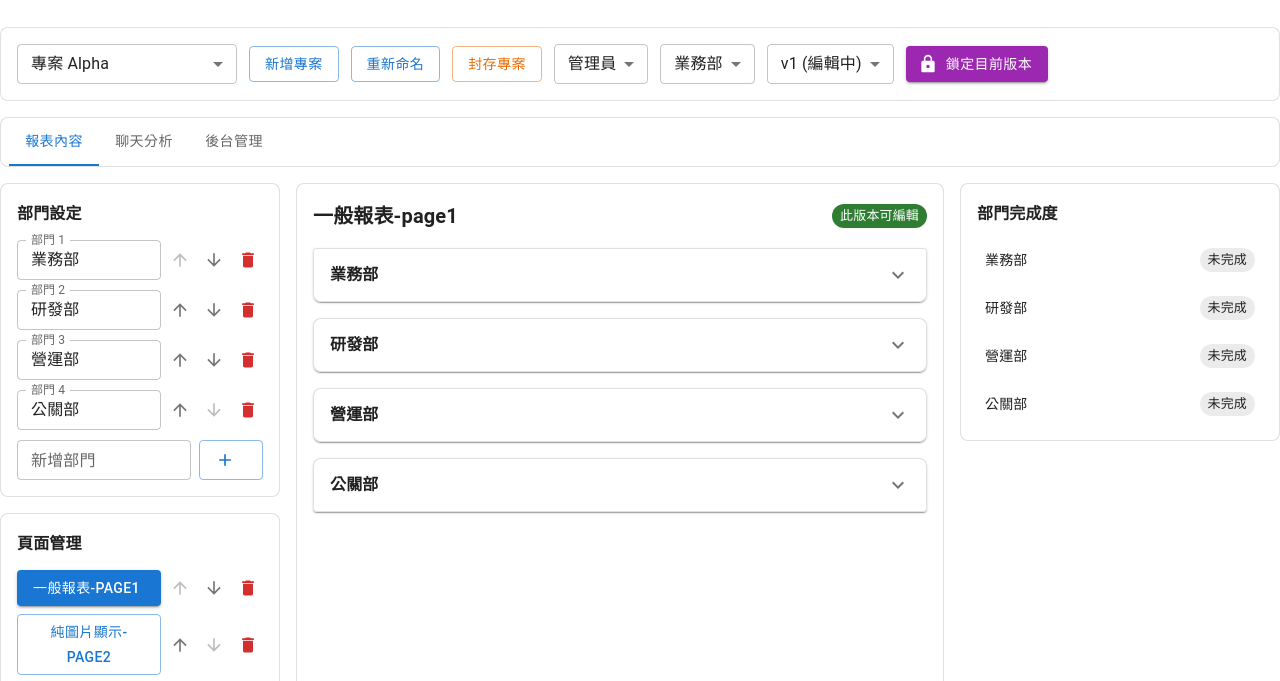
Test case: ReportWorkspacePage backend management tab › freezes expected roster after lock action
This screenshot has width=1280, height=681.
Click the button "鎖定目前版本": [977, 64] box [906,46,1048,82]
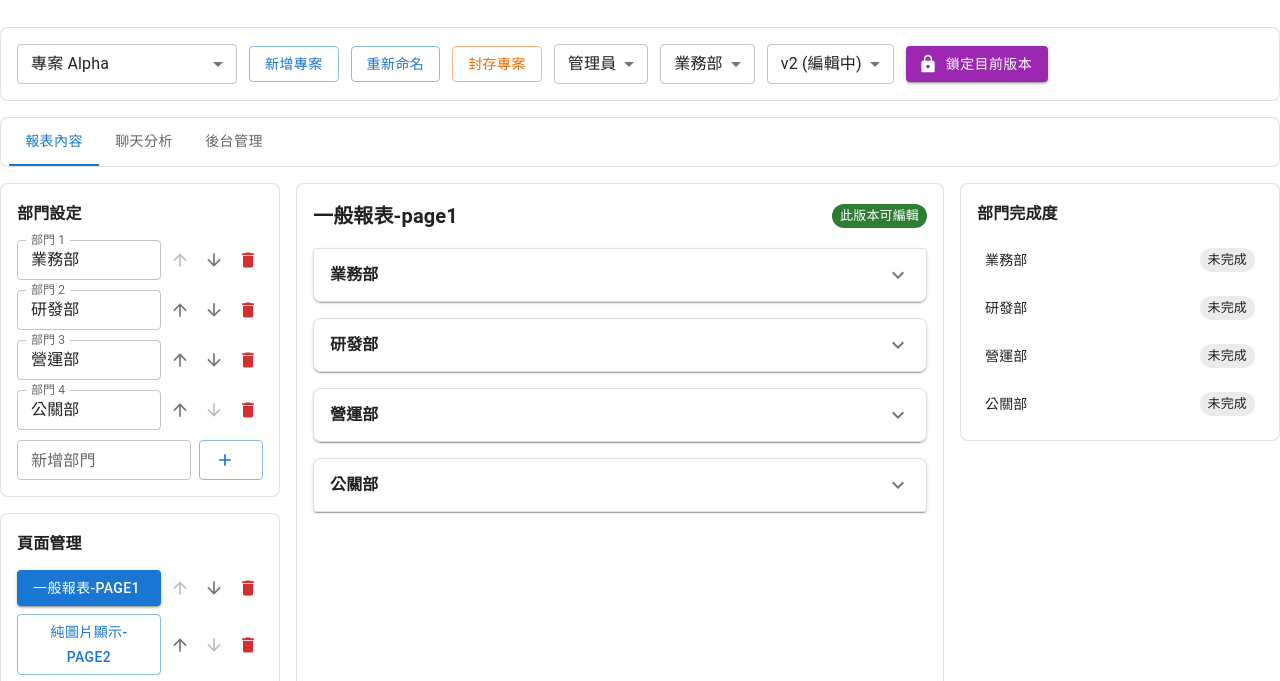
Click the tab "後台管理": [234, 142] box [189,118,279,166]
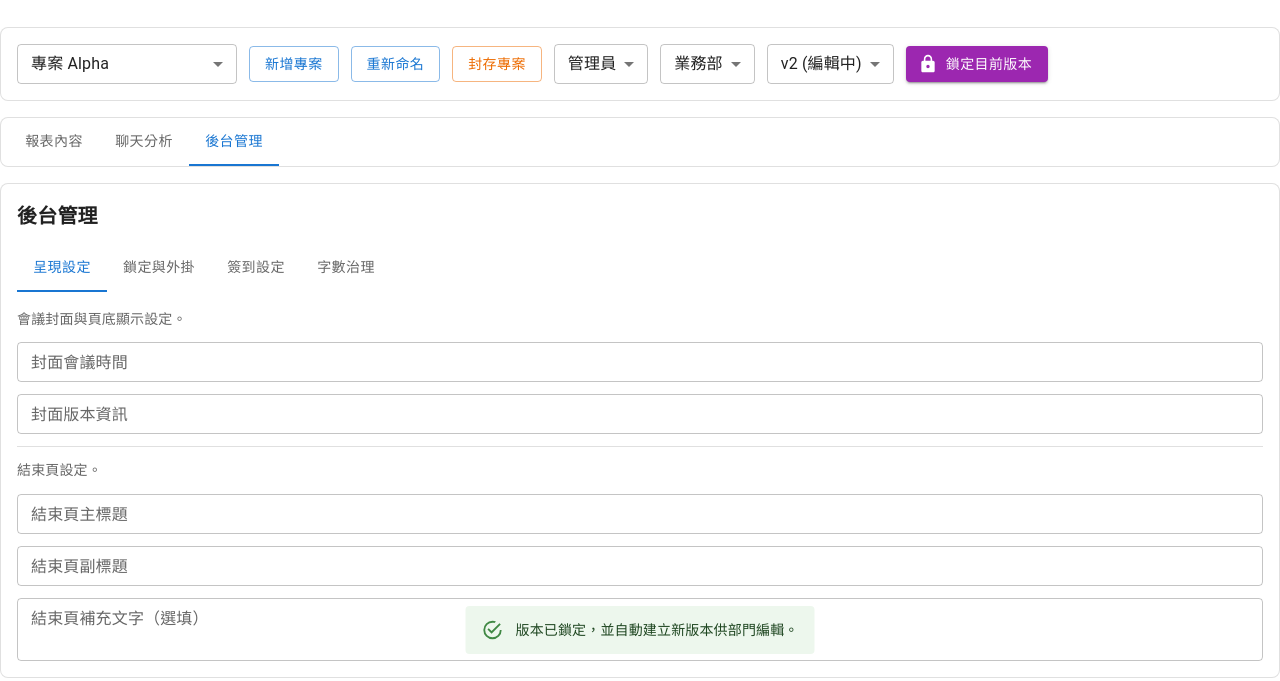
Click the tab "簽到設定": [256, 268] box [211,244,301,292]
(page scrolled)
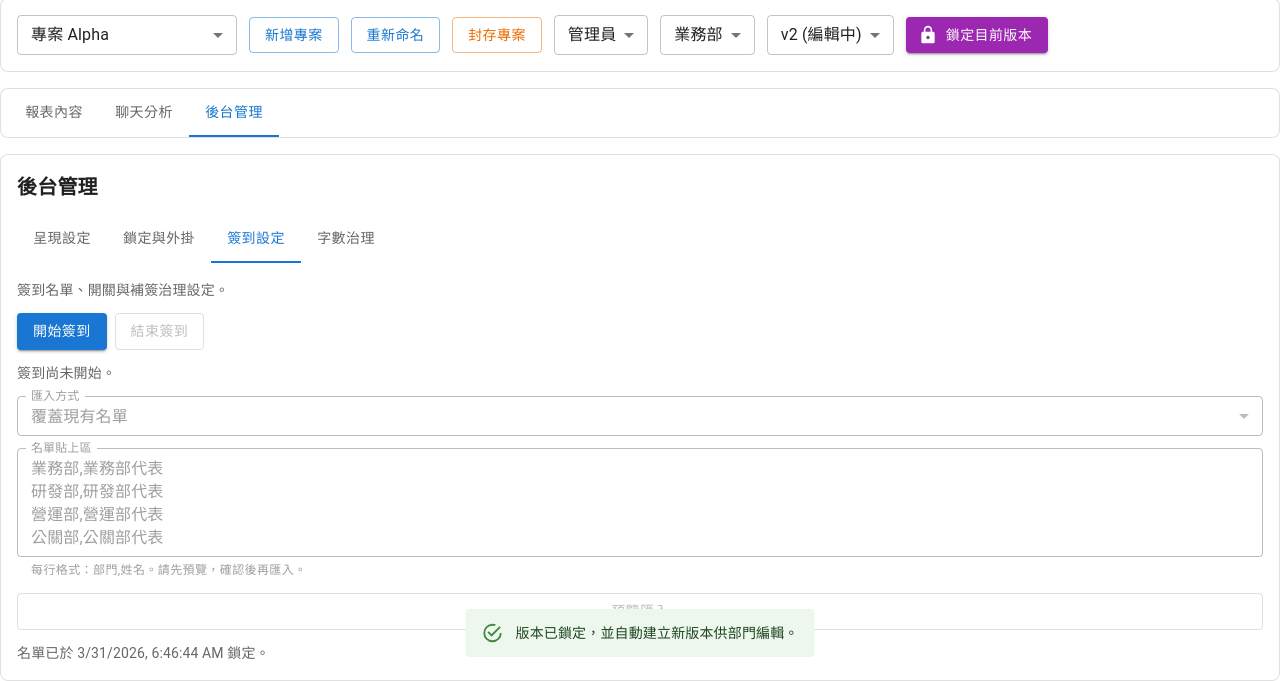
expect the text box labelled "名單貼上區" is disabled: met, box [31,457,1249,549]
expect the text "名單已於 3/31/2026, 6:46:44 AM 鎖定。" is shown: met, box [17,645,270,661]
